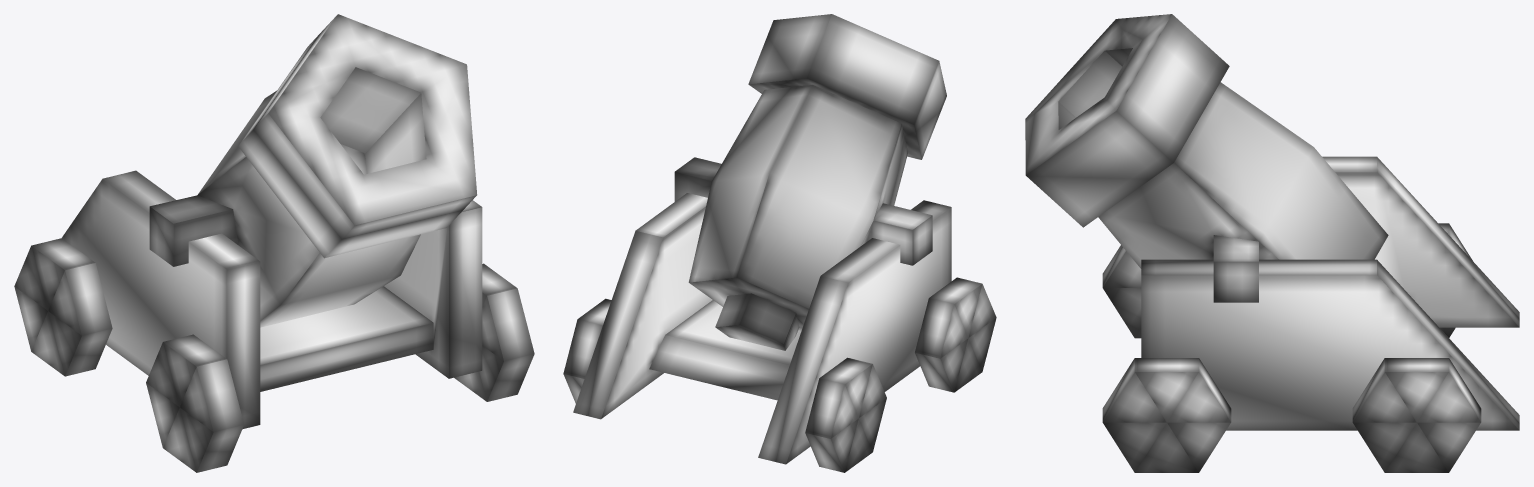
File: Cannon-01.fbx
3 views of the same model, side by side, from view 1: azimuth 30°, elevation 25°; view 2: azimuth 150°, elevation 25°; view 3: azimuth 270°, elevation 25° (orthographic). The views are drawn at different scales.
Visible parts, largest first — view 1: Cannon-01-Gun, Cannon-01, Cannon-01-Wheel-BR, Cannon-01-Wheel-FR, Cannon-01-Wheel-FL; view 2: Cannon-01-Gun, Cannon-01, Cannon-01-Wheel-BR, Cannon-01-Wheel-FR, Cannon-01-Wheel-BL; view 3: Cannon-01-Gun, Cannon-01, Cannon-01-Wheel-FL, Cannon-01-Wheel-BL, Cannon-01-Wheel-FR.
Boxes of the visible parts, <box> form: Cannon-01-Gun: <box>149,14,477,327</box>; Cannon-01: <box>62,170,482,429</box>; Cannon-01-Wheel-BR: <box>14,238,112,376</box>; Cannon-01-Wheel-FR: <box>146,334,244,472</box>; Cannon-01-Wheel-FL: <box>454,263,534,401</box>; Cannon-01-Gun: <box>674,14,946,350</box>; Cannon-01: <box>573,193,951,464</box>; Cannon-01-Wheel-BR: <box>805,357,886,472</box>; Cannon-01-Wheel-FR: <box>915,277,996,392</box>; Cannon-01-Wheel-BL: <box>563,298,611,403</box>; Cannon-01-Gun: <box>1025,14,1388,302</box>; Cannon-01: <box>1141,156,1519,430</box>; Cannon-01-Wheel-FL: <box>1102,358,1231,472</box>; Cannon-01-Wheel-BL: <box>1352,358,1481,472</box>; Cannon-01-Wheel-FR: <box>1102,245,1141,338</box>.
Size of the model in its own units: 0.4428 by 0.5341 by 0.6217.
